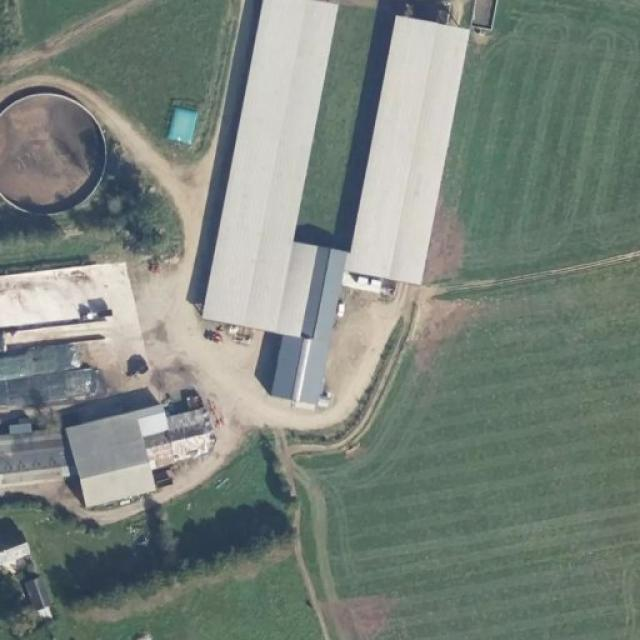ferme: (0, 255, 140, 406), (58, 399, 164, 508), (0, 409, 71, 486), (149, 396, 217, 466), (0, 532, 48, 614)
usine: (198, 2, 344, 340), (346, 19, 476, 286), (264, 232, 348, 408)
